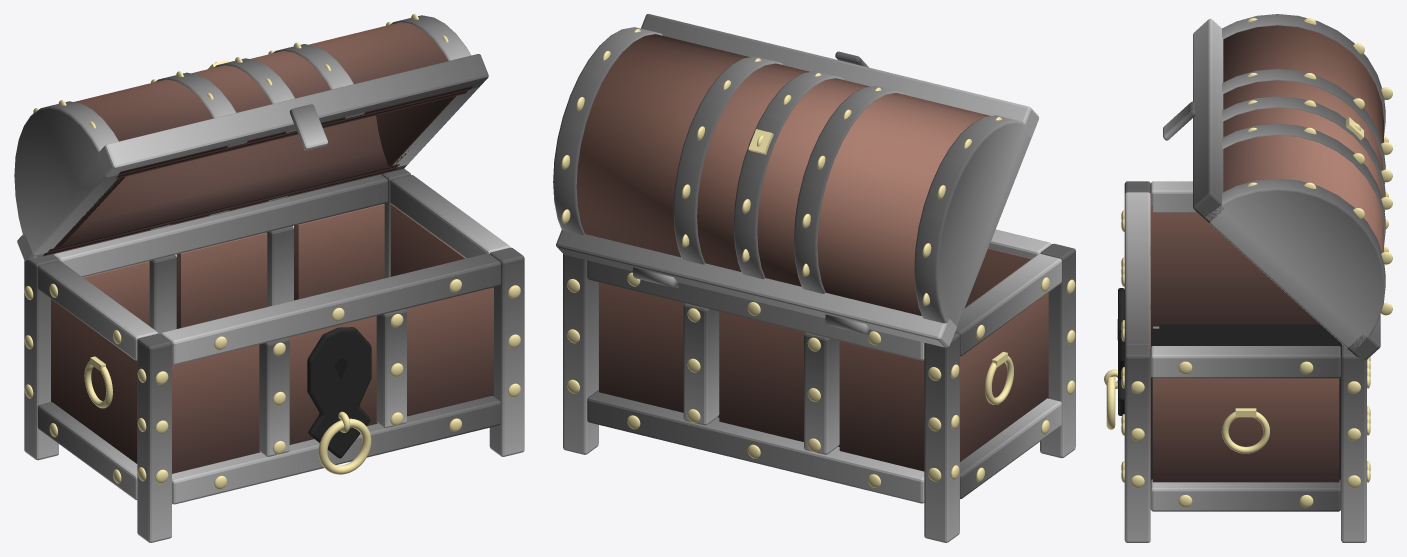
File: bottle.glb
3 views of the same model, side by side, from view 1: azimuth 30°, elevation 25°; view 2: azimuth 150°, elevation 25°; view 3: azimuth 270°, elevation 25° (orthographic). The views are drawn at different scales.
Parts seen in each view (by area): view 1: LidLiner, LidMetal, BeamTopF, LidEdgeF, LidArchL, BeamTopB, PanelF_L, PanelF_R, BeamBottomF, PanelL, PanelB_C, PanelB_R (+24 smaller); view 2: LidMetal, LidArchL, BeamBottomB, LidEdgeB, PanelB_L, PanelB_R, PanelB_C, PanelL, LidEdgeF, Pillar_-1_1, Pillar_1_1, BeamTopB (+12 smaller); view 3: LidMetal, PanelR, LidArchR, PanelL, BeamTopR, LidEdgeF, BeamBottomR, Pillar_1_-1, Pillar_1_1, BeamTopF, BaseCavity, LidArchL (+10 smaller).
Boxes of the visible parts, left/top/right/bottom form: LidLiner: left=47, top=90, right=467, bottom=252; LidMetal: left=42, top=22, right=472, bottom=256; BeamTopF: left=161, top=253, right=500, bottom=364; LidEdgeF: left=97, top=54, right=488, bottom=177; LidArchL: left=14, top=101, right=119, bottom=258; BeamTopB: left=53, top=174, right=387, bottom=276; PanelF_L: left=172, top=344, right=259, bottom=473; PanelF_R: left=406, top=287, right=493, bottom=416; BeamBottomF: left=172, top=396, right=500, bottom=504; PanelL: left=51, top=299, right=137, bottom=463; PanelB_C: left=176, top=232, right=267, bottom=328; PanelB_R: left=294, top=204, right=384, bottom=300; LidMetal: left=576, top=34, right=990, bottom=315; LidArchL: left=914, top=115, right=1031, bottom=327; BeamBottomB: left=587, top=390, right=924, bottom=503; LidEdgeB: left=556, top=230, right=956, bottom=347; PanelB_L: left=839, top=341, right=924, bottom=471; PanelB_R: left=599, top=282, right=684, bottom=412; PanelB_C: left=719, top=311, right=804, bottom=441; PanelL: left=960, top=293, right=1048, bottom=461; LidEdgeF: left=641, top=14, right=1038, bottom=138; Pillar_-1_1: left=924, top=332, right=959, bottom=542; Pillar_1_1: left=563, top=254, right=598, bottom=454; BeamTopB: left=587, top=260, right=924, bottom=360; LidMetal: left=1223, top=25, right=1383, bottom=252; PanelR: left=1152, top=378, right=1339, bottom=482; LidArchR: left=1205, top=178, right=1385, bottom=350; PanelL: left=1151, top=204, right=1319, bottom=328; BeamTopR: left=1150, top=346, right=1340, bottom=378; LidEdgeF: left=1193, top=18, right=1223, bottom=222; BeamBottomR: left=1150, top=479, right=1340, bottom=511; Pillar_1_-1: left=1124, top=346, right=1150, bottom=542; Pillar_1_1: left=1341, top=346, right=1366, bottom=542; BeamTopF: left=1124, top=192, right=1150, bottom=347; BaseCavity: left=1159, top=324, right=1332, bottom=345; LidArchL: left=1222, top=14, right=1385, bottom=135.
Size of the model in its own units: 2.44 by 2.27 by 1.67.
1 material, 1 textured.
